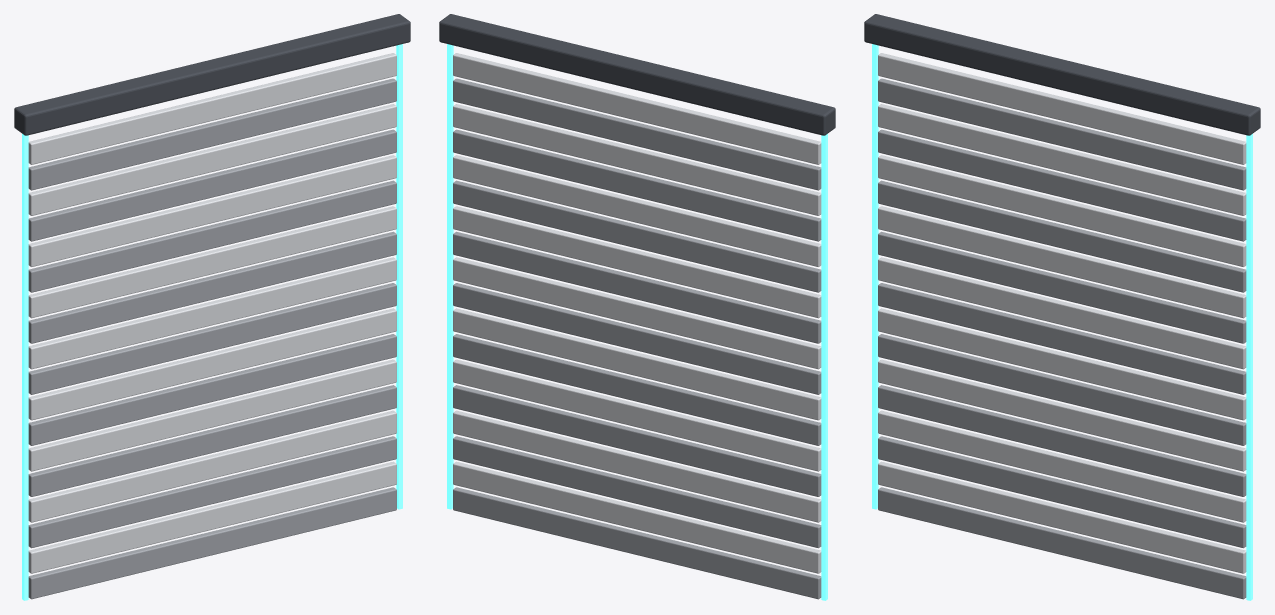
Rendered from curtains_privacy_shutter.glb.
The picture shows the model from 3 angles, left to right: view 1: azimuth 30°, elevation 25°; view 2: azimuth 150°, elevation 25°; view 3: azimuth 330°, elevation 25°; orthographic projection.
Visible parts, largest first — view 1: GD_curtains_privacy_shutter__m2, GD_curtains_privacy_shutter__m1, GD_curtains_privacy_shutter__m0, GD_curtains_privacy_shutter__m3; view 2: GD_curtains_privacy_shutter__m2, GD_curtains_privacy_shutter__m1, GD_curtains_privacy_shutter__m0, GD_curtains_privacy_shutter__m3; view 3: GD_curtains_privacy_shutter__m2, GD_curtains_privacy_shutter__m1, GD_curtains_privacy_shutter__m0, GD_curtains_privacy_shutter__m3.
Boxes of the visible parts, x1,y1,x2,y2 form: GD_curtains_privacy_shutter__m2: (28, 53, 396, 573); GD_curtains_privacy_shutter__m1: (28, 78, 396, 599); GD_curtains_privacy_shutter__m0: (14, 14, 410, 135); GD_curtains_privacy_shutter__m3: (22, 44, 402, 600); GD_curtains_privacy_shutter__m2: (453, 53, 821, 573); GD_curtains_privacy_shutter__m1: (453, 78, 821, 599); GD_curtains_privacy_shutter__m0: (439, 14, 835, 135); GD_curtains_privacy_shutter__m3: (447, 44, 827, 600); GD_curtains_privacy_shutter__m2: (878, 53, 1246, 573); GD_curtains_privacy_shutter__m1: (878, 78, 1246, 599); GD_curtains_privacy_shutter__m0: (864, 14, 1260, 135); GD_curtains_privacy_shutter__m3: (872, 44, 1252, 600).
Size of the model in its own units: 1.9 by 2.3 by 0.1.
